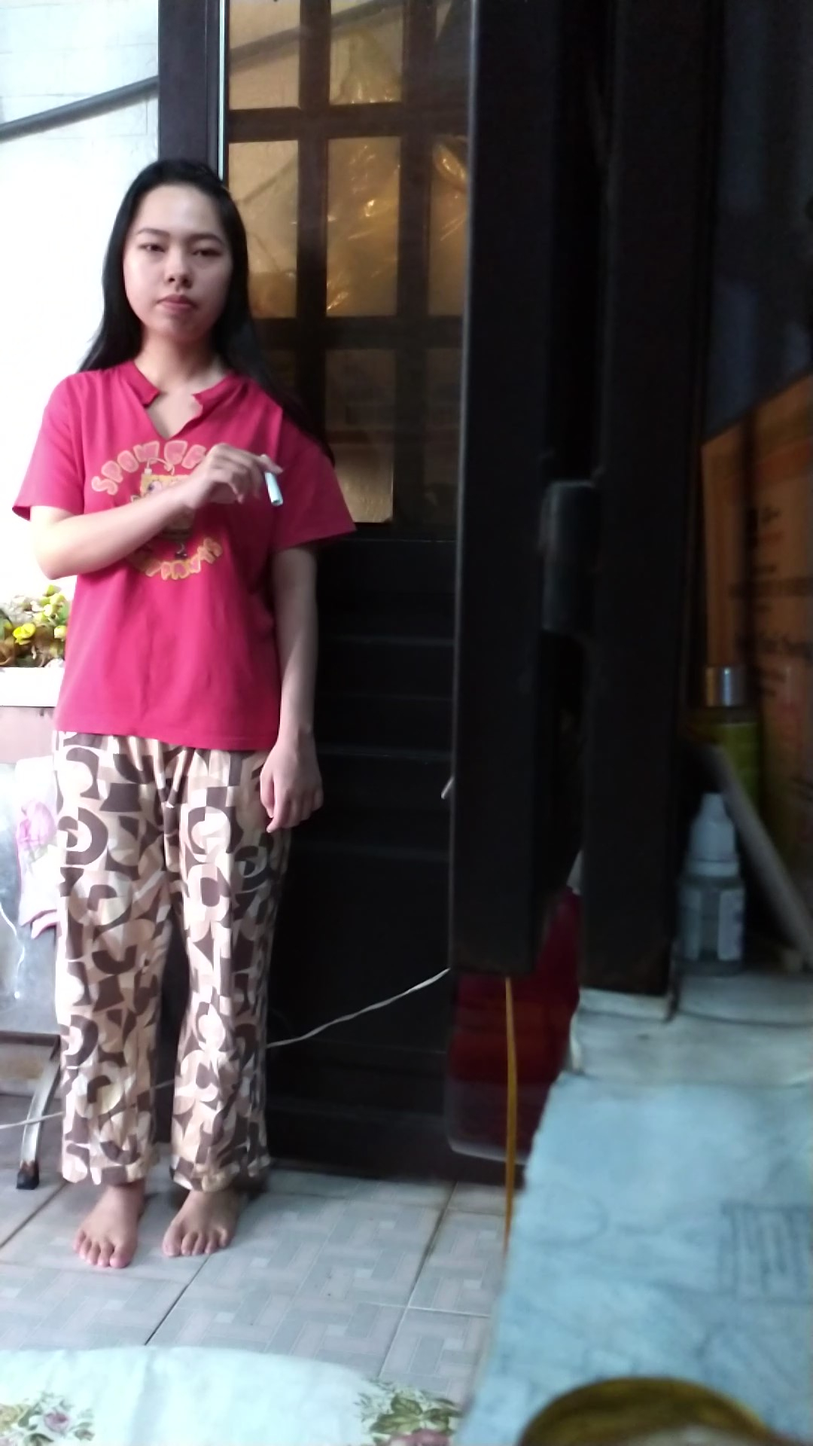cigarette: (261, 470, 288, 511)
person: (14, 111, 346, 1326)
